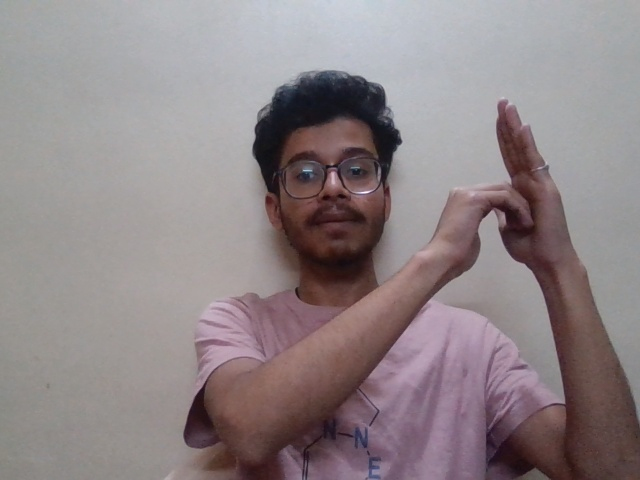N: (419, 97, 593, 328)
